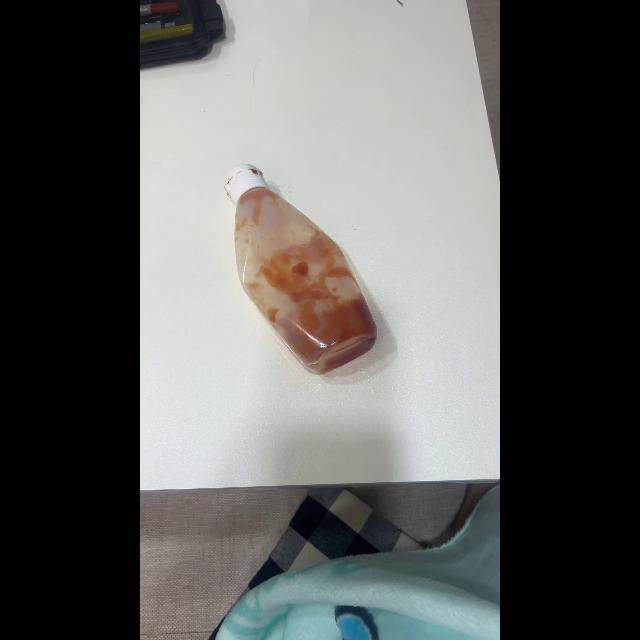dirty: (234, 171, 376, 373)
